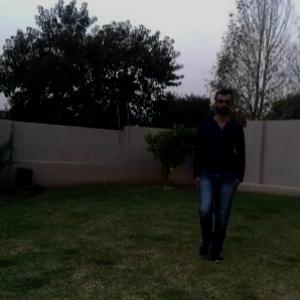follow: (192, 96, 242, 250)
